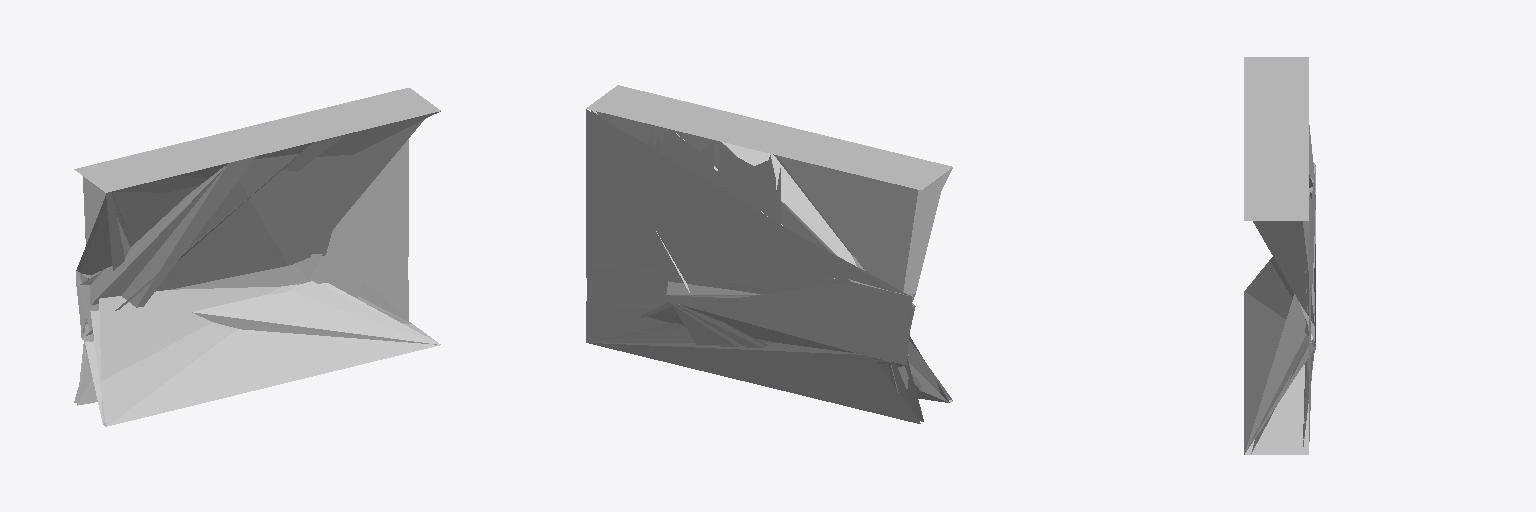
The model's file is Engineering Wall 4.obj.
The picture shows the model from 3 angles: view 1: azimuth 30°, elevation 25°; view 2: azimuth 150°, elevation 25°; view 3: azimuth 270°, elevation 25°; orthographic projection.
Bounding box in the file's own units: 60 × 40 × 11.